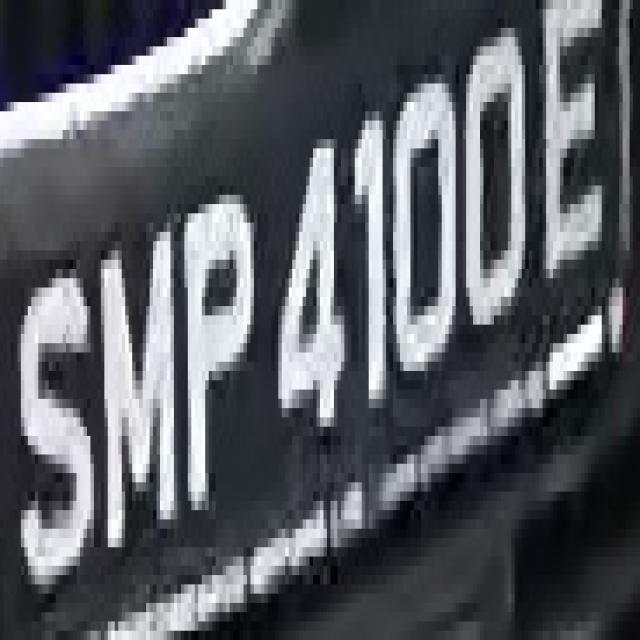0: (452, 19, 536, 352), (386, 65, 463, 399)
1: (348, 74, 396, 464)
4: (264, 93, 352, 473)
E: (536, 18, 612, 297)
M: (90, 213, 188, 575)
P: (177, 176, 261, 547)
S: (10, 232, 104, 603)
